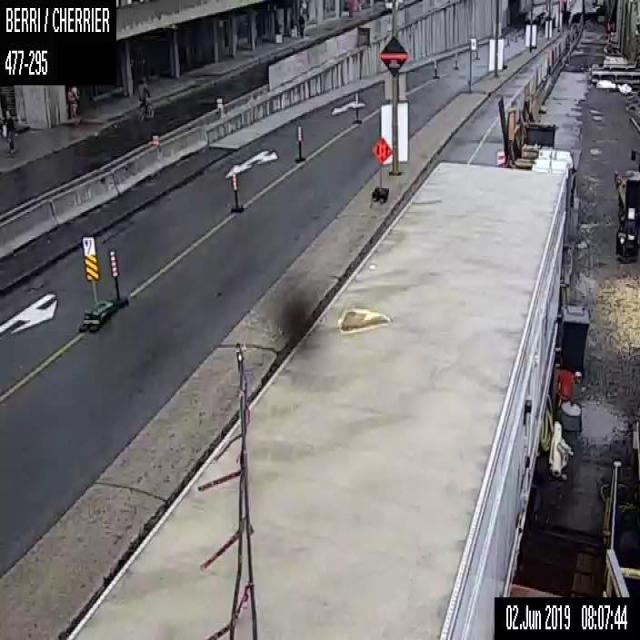construction: (370, 135, 392, 201), (110, 248, 120, 301), (231, 172, 238, 206), (297, 126, 301, 158), (354, 91, 358, 118), (433, 56, 436, 75), (454, 50, 457, 66), (476, 46, 478, 56)
cyclist: (136, 74, 156, 122)
pedestrian: (2, 108, 13, 154), (67, 84, 79, 120), (297, 10, 305, 39)
